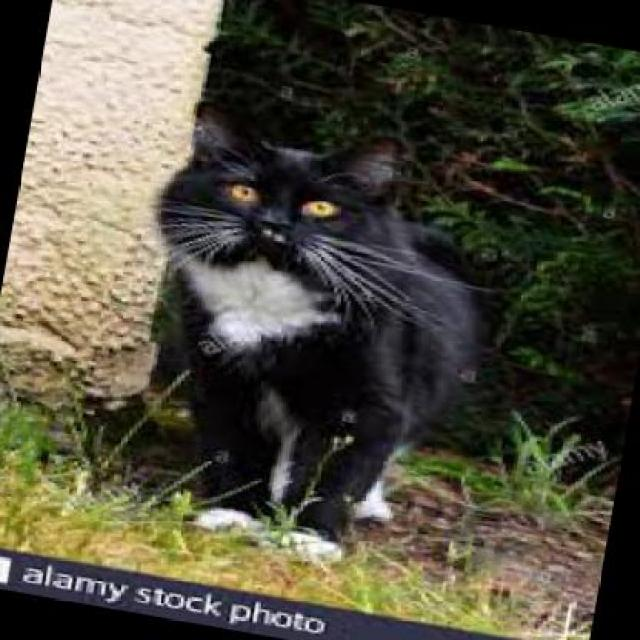animals: (47, 105, 544, 578)
